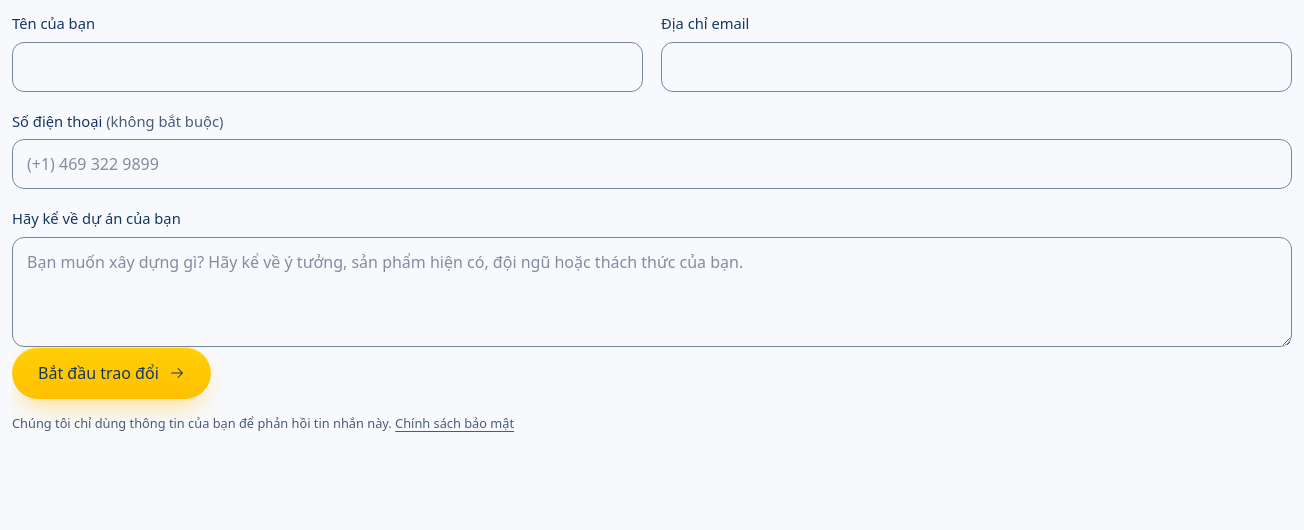
it: HomeContactForm in Vietnamese › shows the required-message and phone errors in Vietnamese
The image size is (1304, 530).
Type "12" into the field with id "c-phone" at point(652, 164), box [12,139,1292,189]
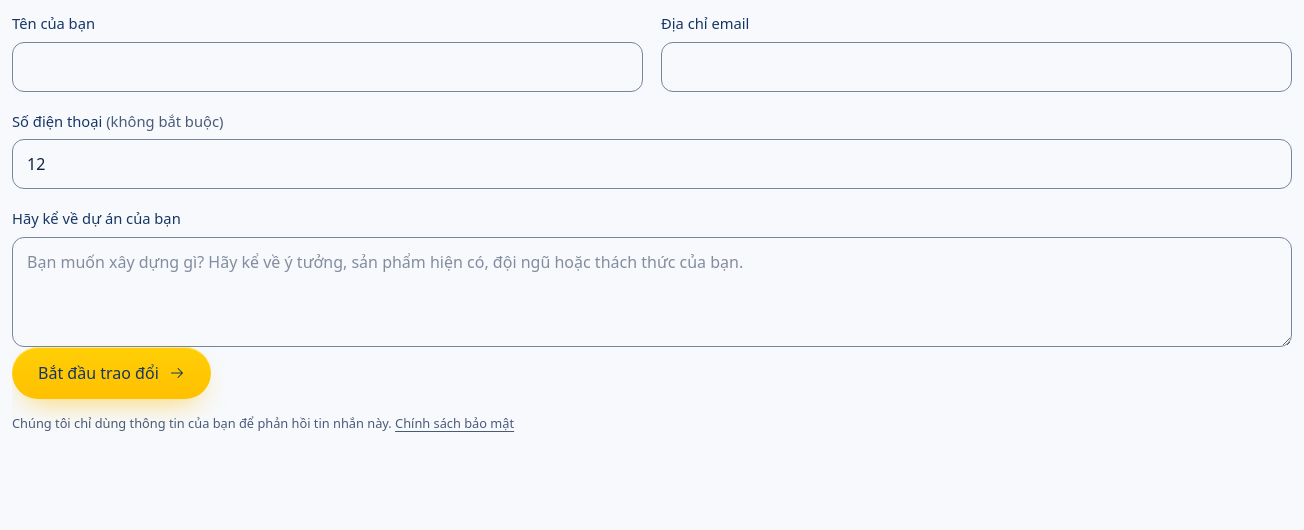
Click the button "Bắt đầu trao đổi" at point(111, 373), box [12,347,211,399]
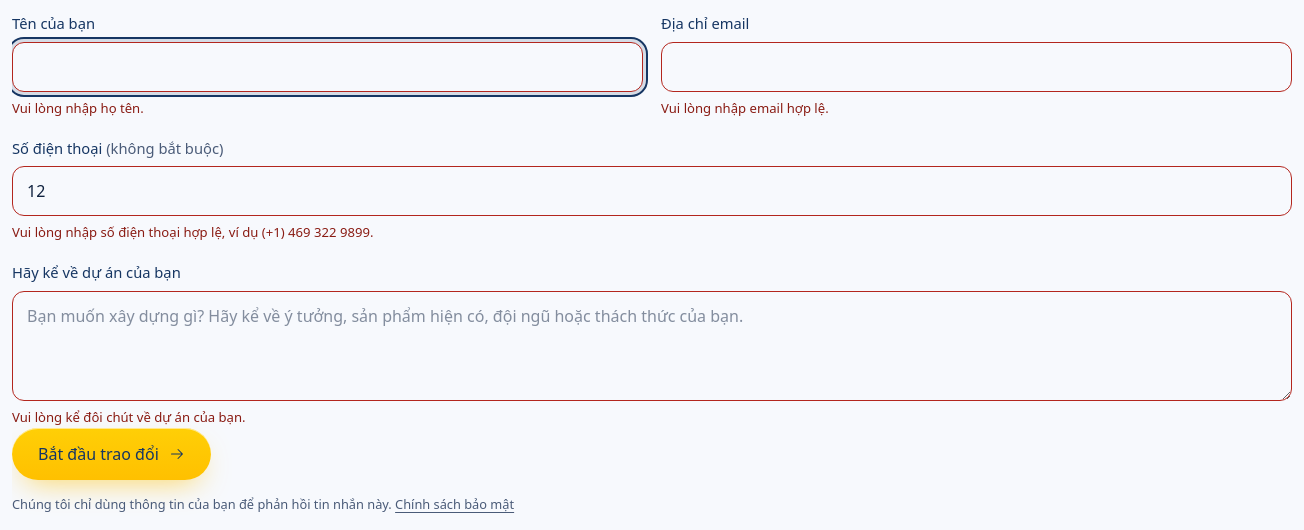
Expected: the text "Vui lòng nhập họ tên." is shown, [12,98,144,116]
Expected: the text "Vui lòng nhập số điện thoại hợp lệ, ví dụ (+1) 469 322 9899." is shown, [12,223,373,241]
Expected: the text "Vui lòng kể đôi chút về dự án của bạn." is shown, [12,408,246,426]
